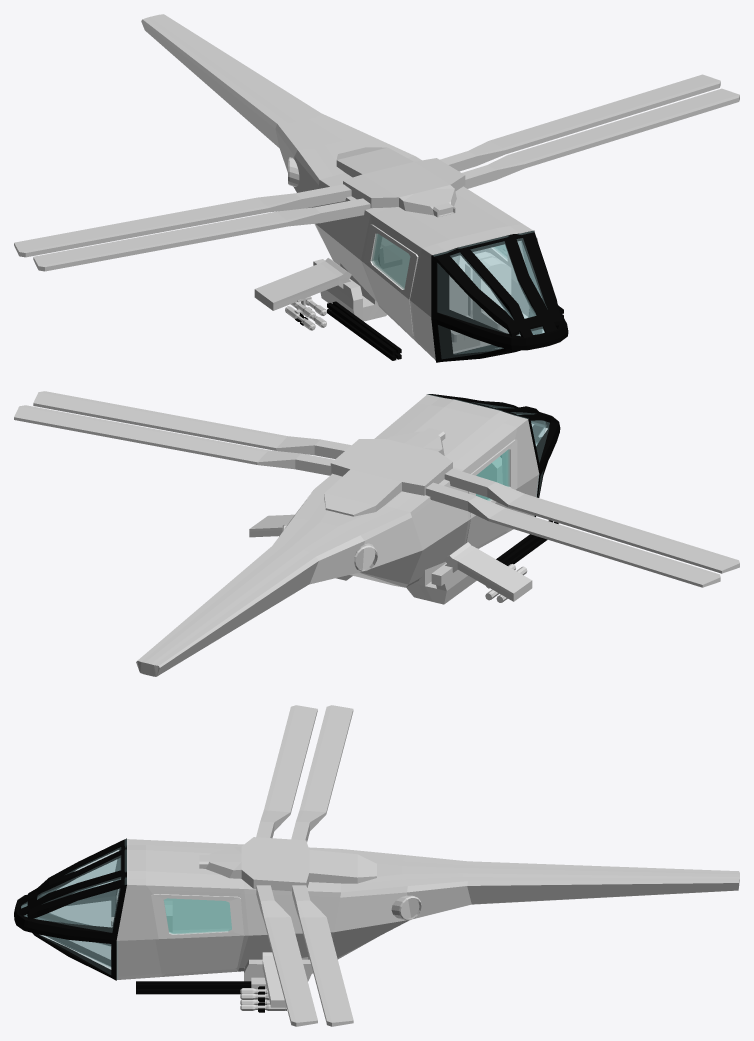
File: dragonflymodern.glb
3 renders of one model, top to bottom at view 1: azimuth 30°, elevation 25°; view 2: azimuth 150°, elevation 25°; view 3: azimuth 270°, elevation 25°, orthographic. The views are drawn at different scales.
Parts seen in each view (by area): view 1: Cube.041, cockpitframe, Cube.058, cockpit, backblade.001, forwardblade.001, forwardblade, backblade, Cube.016, door_right, barrel.001, Cube.053 (+2 smaller); view 2: Cube.041, Cube.058, backblade.001, forwardblade.001, backblade, forwardblade, Cube.016, cockpitframe, door_right, Cube.060, barrel.001, cockpit; view 3: Cube.041, cockpitframe, Cube.058, door_left, cockpit, forwardblade, backblade, backblade.001, forwardblade.001, Cube.059, door_right, barrel (+1 smaller).
Boxes of the visible parts, bbox=[...] form: Cube.041: bbox=[141, 14, 532, 359]; cockpitframe: bbox=[431, 230, 568, 362]; Cube.058: bbox=[336, 147, 465, 217]; cockpit: bbox=[433, 231, 545, 358]; backblade.001: bbox=[14, 184, 351, 257]; forwardblade.001: bbox=[33, 198, 372, 271]; forwardblade: bbox=[462, 88, 739, 188]; backblade: bbox=[440, 74, 720, 171]; Cube.016: bbox=[254, 237, 537, 321]; door_right: bbox=[363, 224, 418, 335]; barrel.001: bbox=[327, 301, 401, 360]; Cube.053: bbox=[472, 257, 527, 335]; Cube.041: bbox=[136, 394, 539, 676]; Cube.058: bbox=[324, 428, 452, 516]; backblade.001: bbox=[425, 482, 720, 587]; forwardblade.001: bbox=[444, 468, 739, 573]; backblade: bbox=[14, 405, 334, 475]; forwardblade: bbox=[33, 391, 351, 458]; Cube.016: bbox=[249, 514, 532, 604]; cockpitframe: bbox=[427, 394, 560, 516]; door_right: bbox=[466, 439, 517, 547]; Cube.060: bbox=[476, 449, 509, 500]; barrel.001: bbox=[496, 520, 558, 565]; cockpit: bbox=[428, 394, 549, 497]; Cube.041: bbox=[116, 839, 739, 979]; cockpitframe: bbox=[14, 838, 126, 980]; Cube.058: bbox=[199, 837, 376, 891]; door_left: bbox=[151, 894, 243, 973]; cockpit: bbox=[21, 839, 126, 979]; forwardblade: bbox=[256, 885, 317, 1026]; backblade: bbox=[292, 885, 353, 1026]; backblade.001: bbox=[291, 705, 353, 841]; forwardblade.001: bbox=[256, 705, 317, 838]; Cube.059: bbox=[164, 898, 231, 933]; door_right: bbox=[164, 898, 231, 929]; barrel: bbox=[136, 981, 251, 994].
Bounding box in the file's own units: 6.16 × 0.979 × 5.95.
